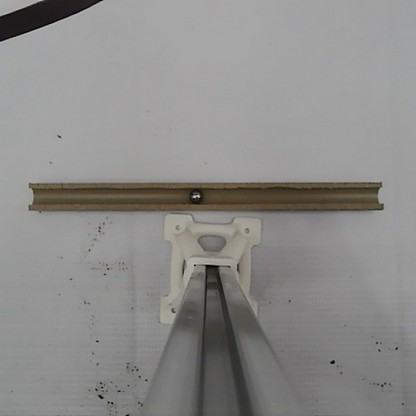ironball: (187, 187, 203, 204)
